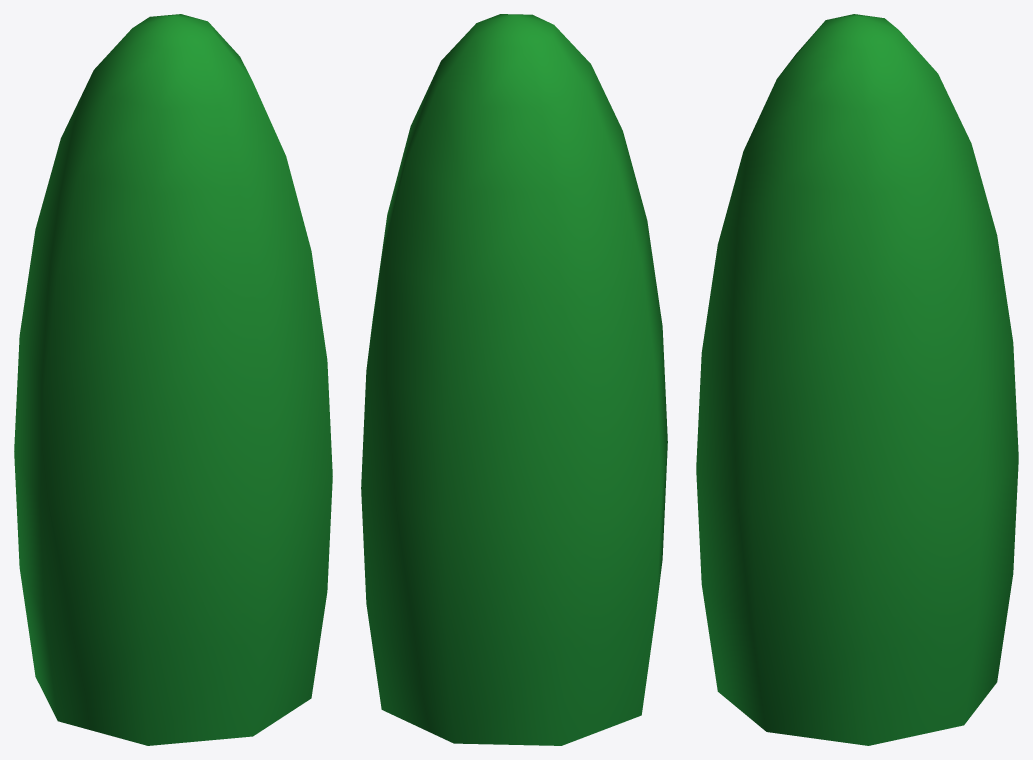
Rendered from Bush_2_B_1.fbx.
The picture shows the model from 3 angles, left to right: view 1: azimuth 30°, elevation 25°; view 2: azimuth 150°, elevation 25°; view 3: azimuth 270°, elevation 25°; orthographic projection.
Visible parts, largest first — view 1: Bush_2_B_1; view 2: Bush_2_B_1; view 3: Bush_2_B_1.
Part boxes in pixels (x1,y1,x2,y2): Bush_2_B_1: (14, 14, 332, 745); Bush_2_B_1: (361, 14, 667, 745); Bush_2_B_1: (696, 14, 1018, 745).
Size of the model in its own units: 69.38 by 159 by 69.38.
